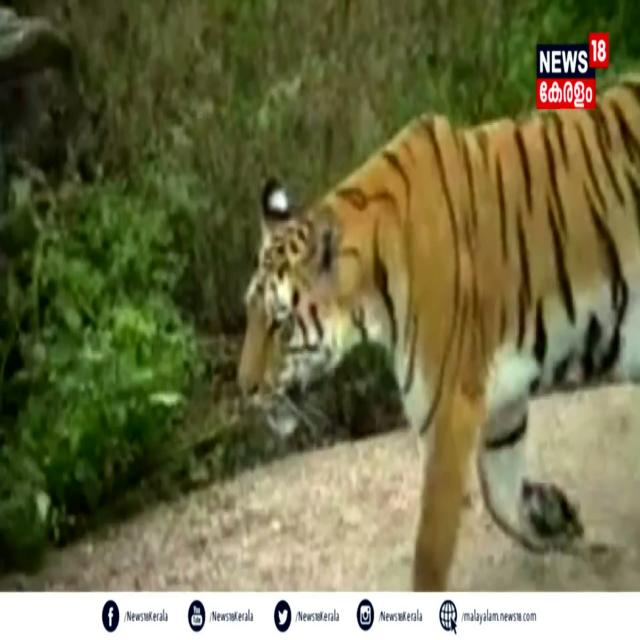TIGER: (232, 111, 525, 564)
